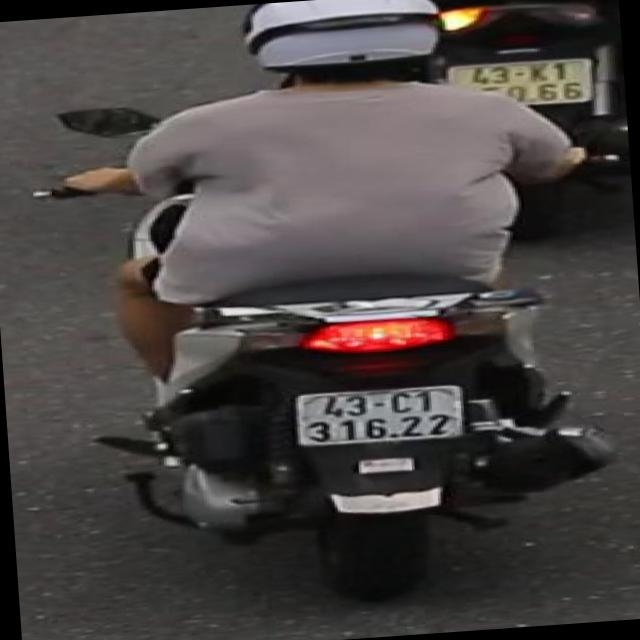LP: (282, 375, 475, 454)
helmet: (241, 0, 449, 104)
